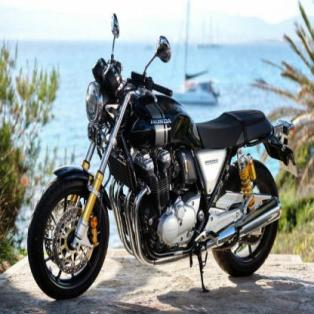Motocicleta: (24, 10, 297, 303)
